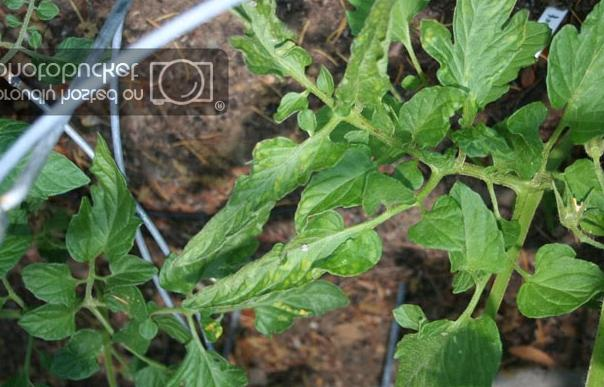Tomato leaf mosaic virus: (410, 0, 542, 146), (178, 134, 319, 268), (63, 132, 150, 272), (528, 0, 604, 143), (388, 299, 508, 387), (515, 239, 604, 317), (381, 85, 467, 157), (411, 197, 475, 256)
